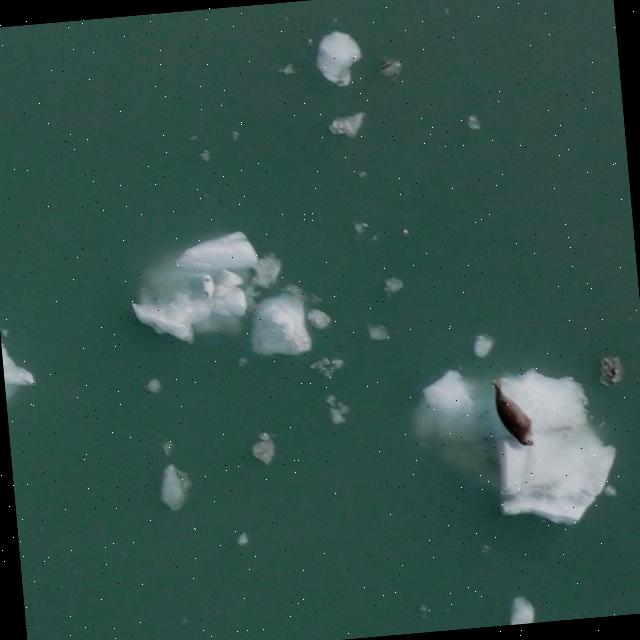seal: (475, 374, 544, 453)
